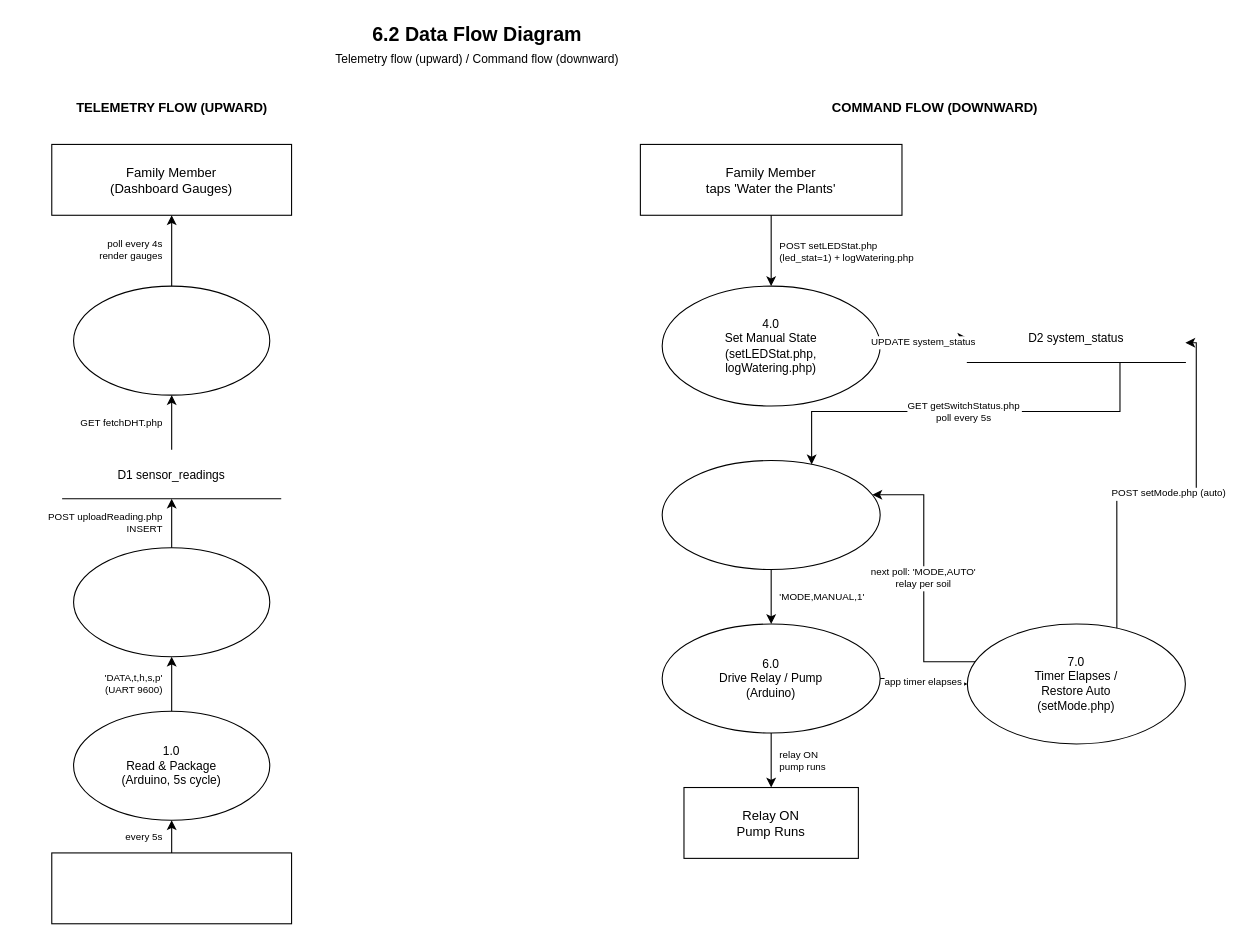
This 1245x943 diagram has some shape labels left out. Here are the shapes that lost their labels. From the top down, the box of each, then its label:
(72, 285, 270, 395): 3.0 Fetch & Display (App, 4s poll)
(661, 459, 880, 570): 5.0 Poll Switch Status (ESP8266, 5s poll)
(72, 547, 270, 657): 2.0 Upload Reading (ESP8266)
(51, 852, 292, 924): Sensors (DHT11 + HW-080)
